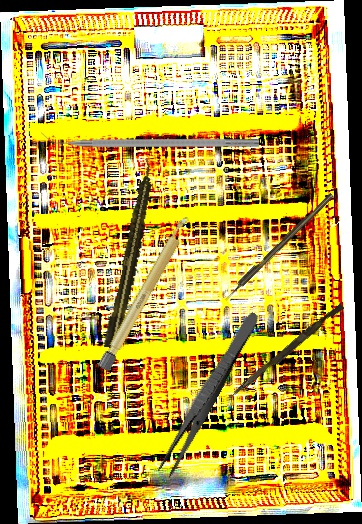Chopper: (41, 127, 259, 147)
Dressing Forceps: (154, 307, 262, 481)
Handpiece: (102, 158, 160, 350)
Hook Surgical: (222, 192, 335, 302)
Pusher: (227, 300, 345, 404)
Scalpel Handle: (97, 213, 194, 373)
